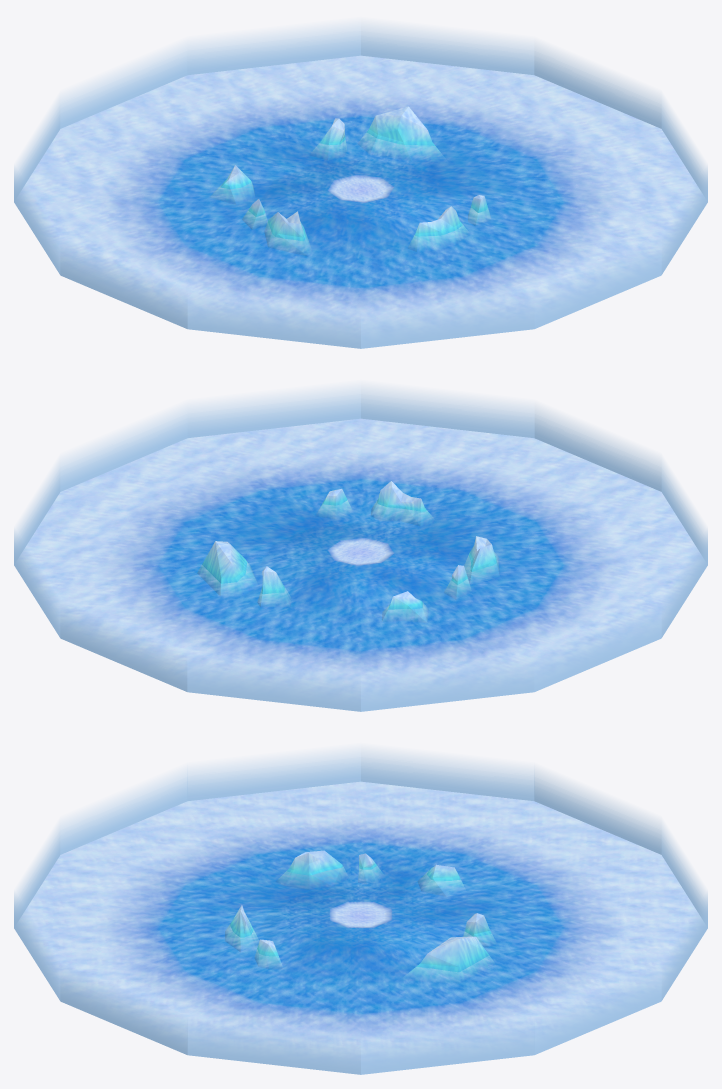
File: ex_wario_all.glb
3 renders of one model, top to bottom at view 1: azimuth 30°, elevation 25°; view 2: azimuth 150°, elevation 25°; view 3: azimuth 270°, elevation 25°, orthographic.
Visible parts, largest first — view 1: ex_wario_all; view 2: ex_wario_all; view 3: ex_wario_all.
Boxes of the visible parts, x1,y1,x2,y2 form: ex_wario_all: (14, 22, 707, 348); ex_wario_all: (14, 385, 707, 711); ex_wario_all: (14, 748, 707, 1074).
Bounding box in the file's own units: 45.41 × 3 × 45.41.
3 materials, 3 textured.
